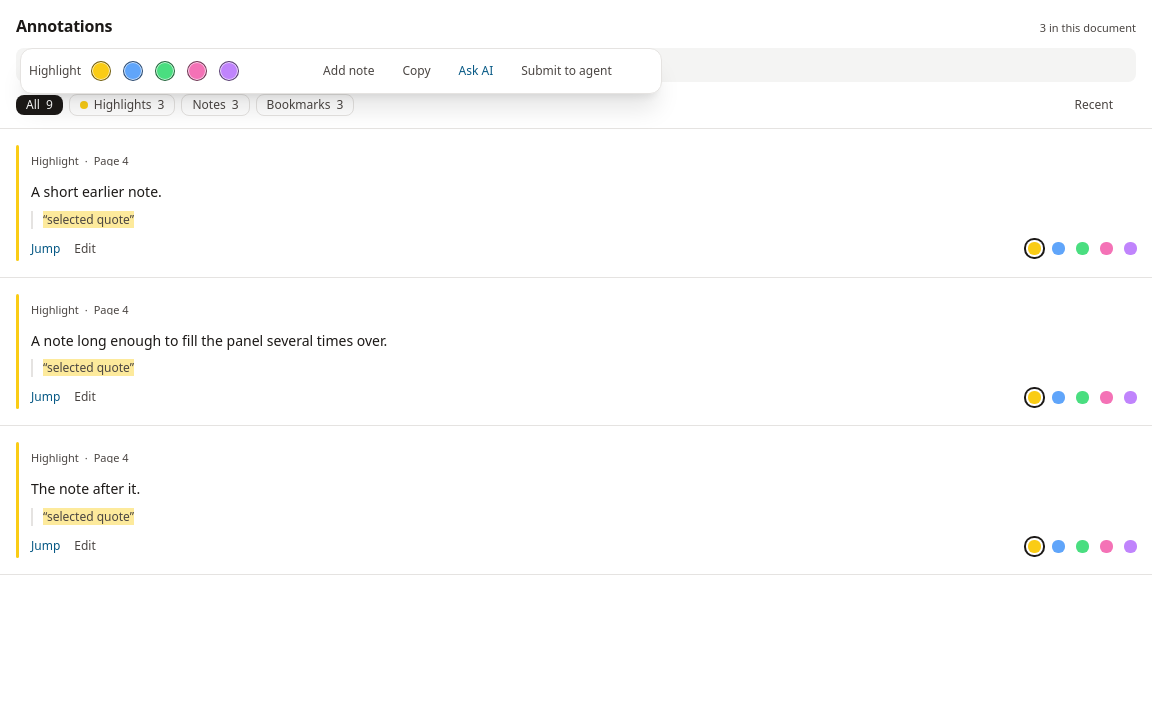
Test: a newly created annotation is revealed in the annotations panel › brings the created note to the top of a list left scrolled mid-note
Click the button "Add note" at (349, 71), box [311,57,386,85]
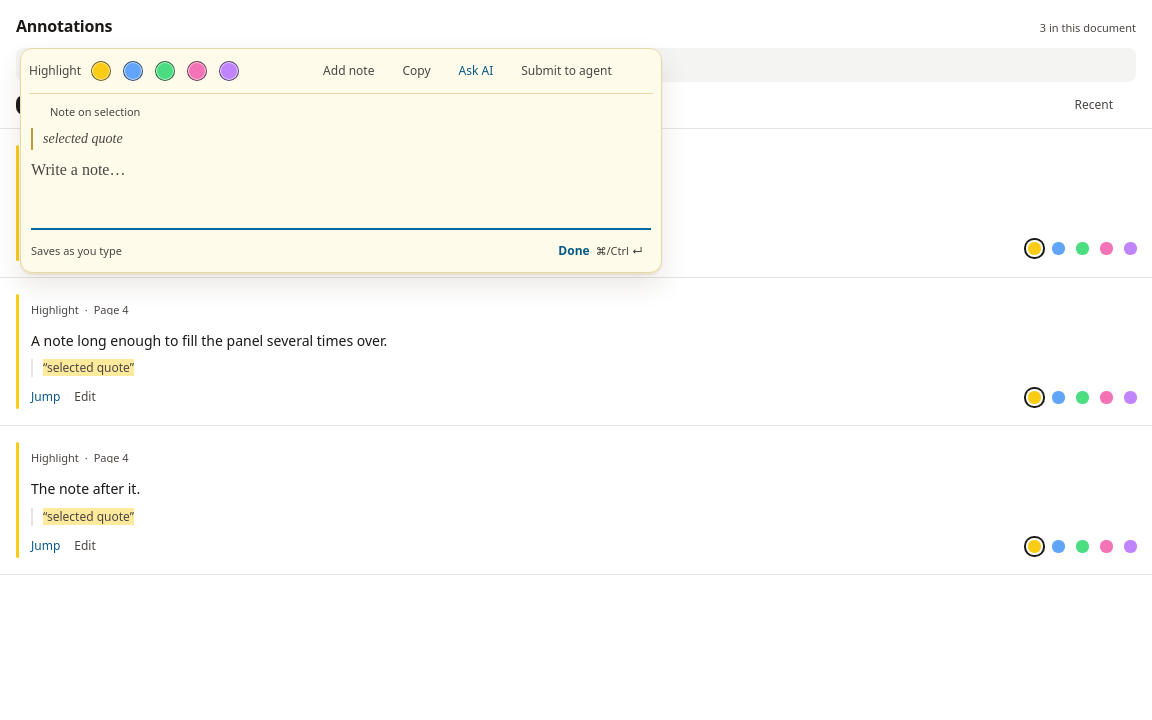
Type "A new note." into the text box named "Note on selected text" at (341, 194), box [31,158,651,230]
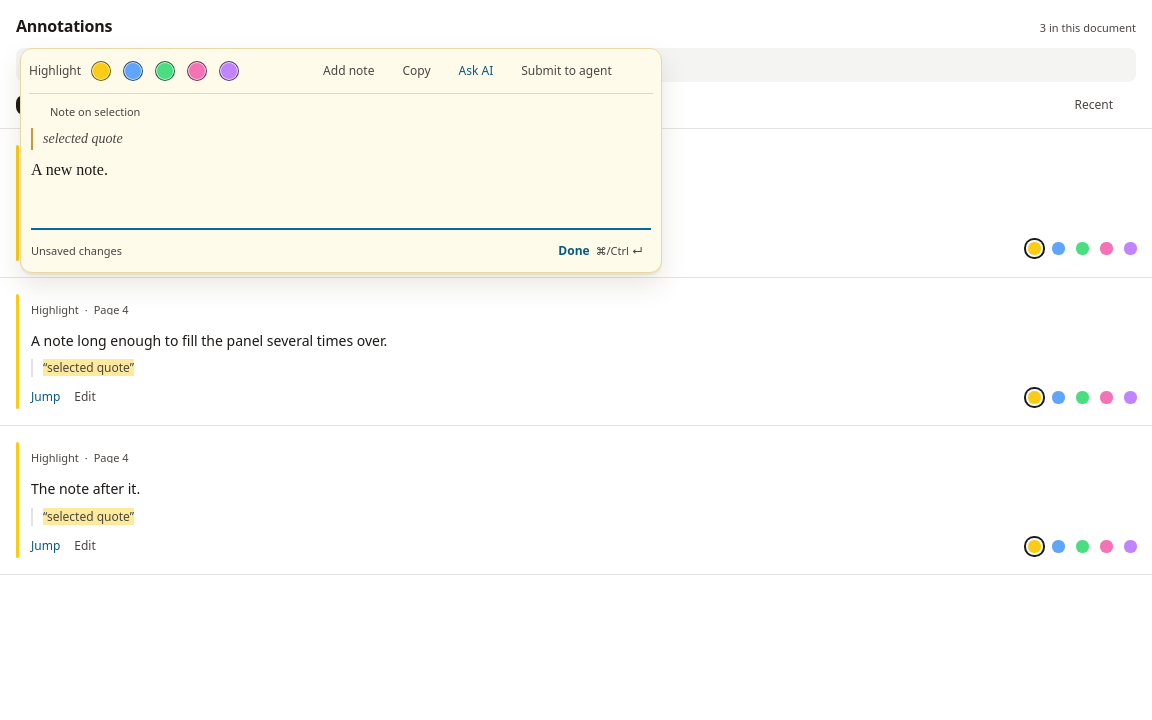
Click the button "Done ⌘/Ctrl ↵" at (600, 251), box [550,238,651,264]
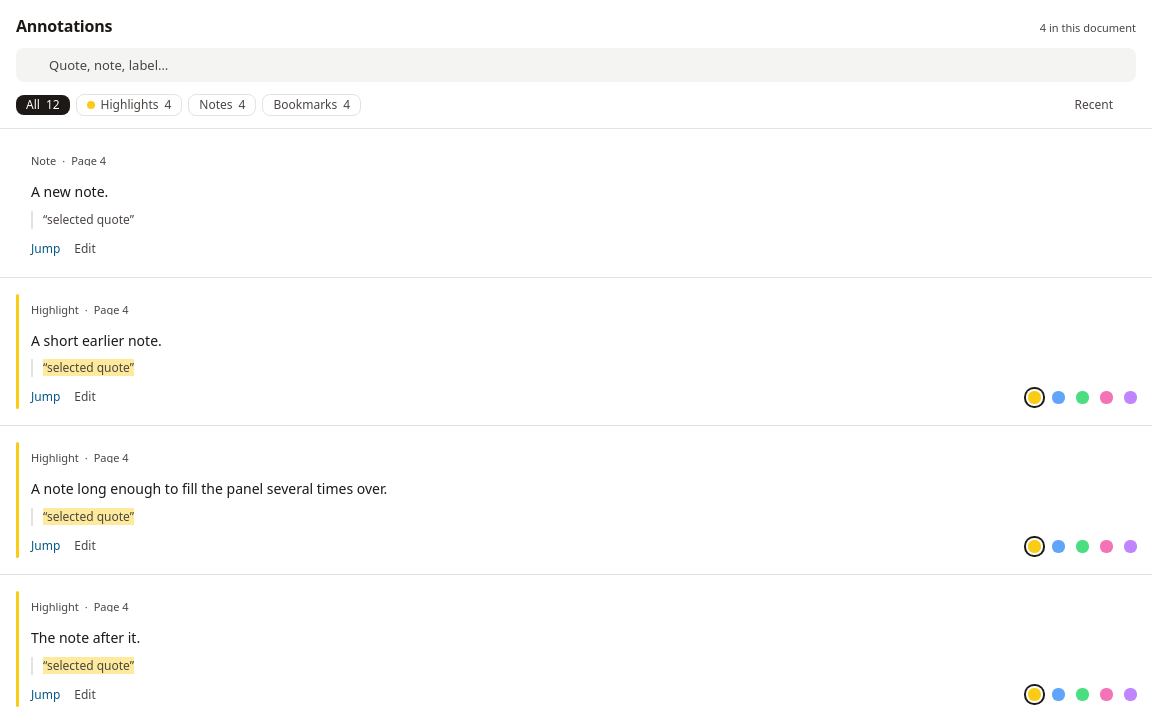
Expected: the number of list items with test id "annotation-row" is 4, [0,129,1151,278]; [0,278,1151,426]; [0,426,1151,575]; [0,575,1151,719]
